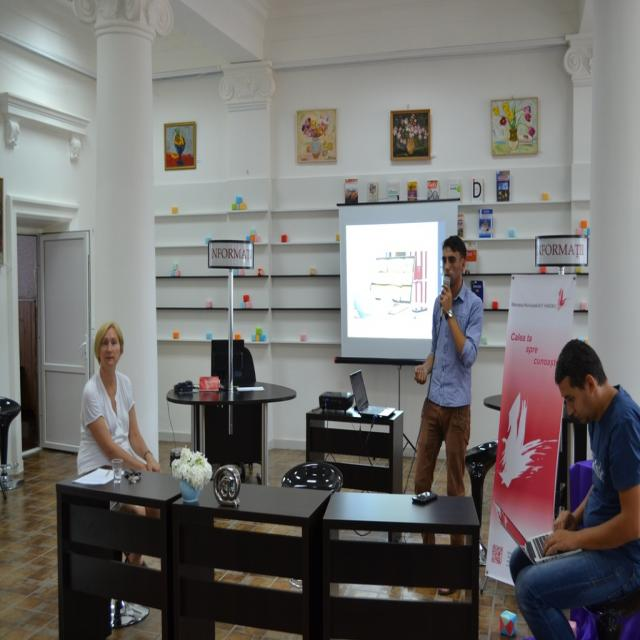desk: (52, 461, 479, 639)
laptop: (348, 367, 394, 416)
person: (507, 338, 640, 636), (411, 234, 483, 505), (76, 319, 161, 507)
tv: (338, 205, 451, 362)
